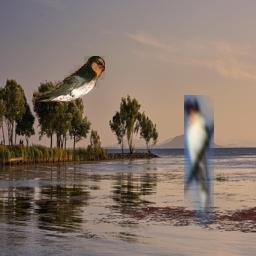Swallow: (184, 95, 214, 225), (33, 56, 105, 103)
